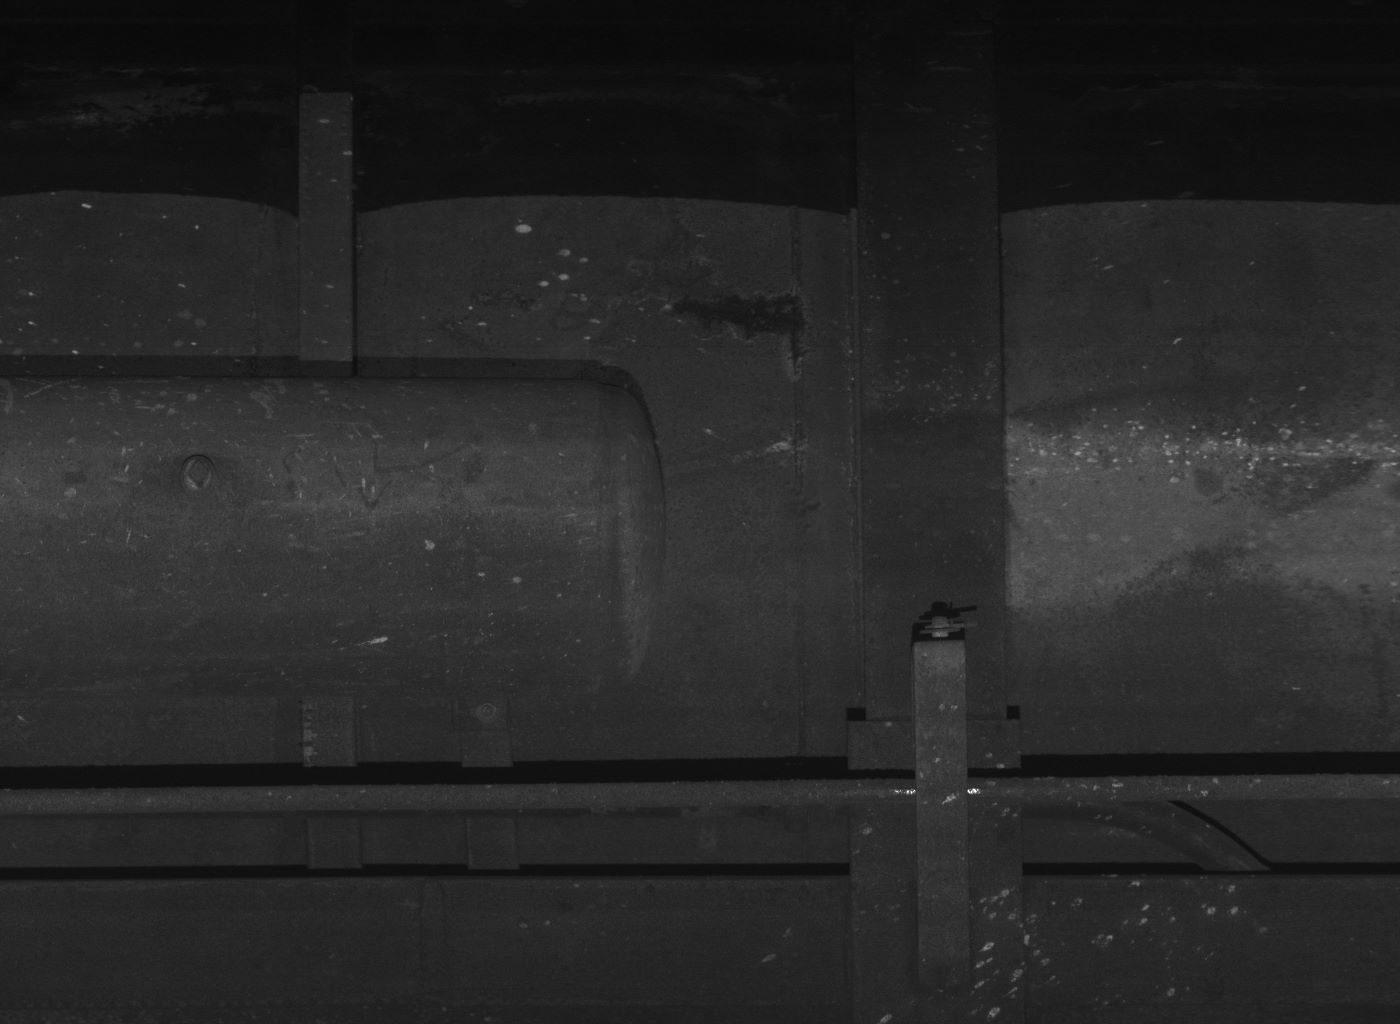normal: (912, 614, 971, 1003)
